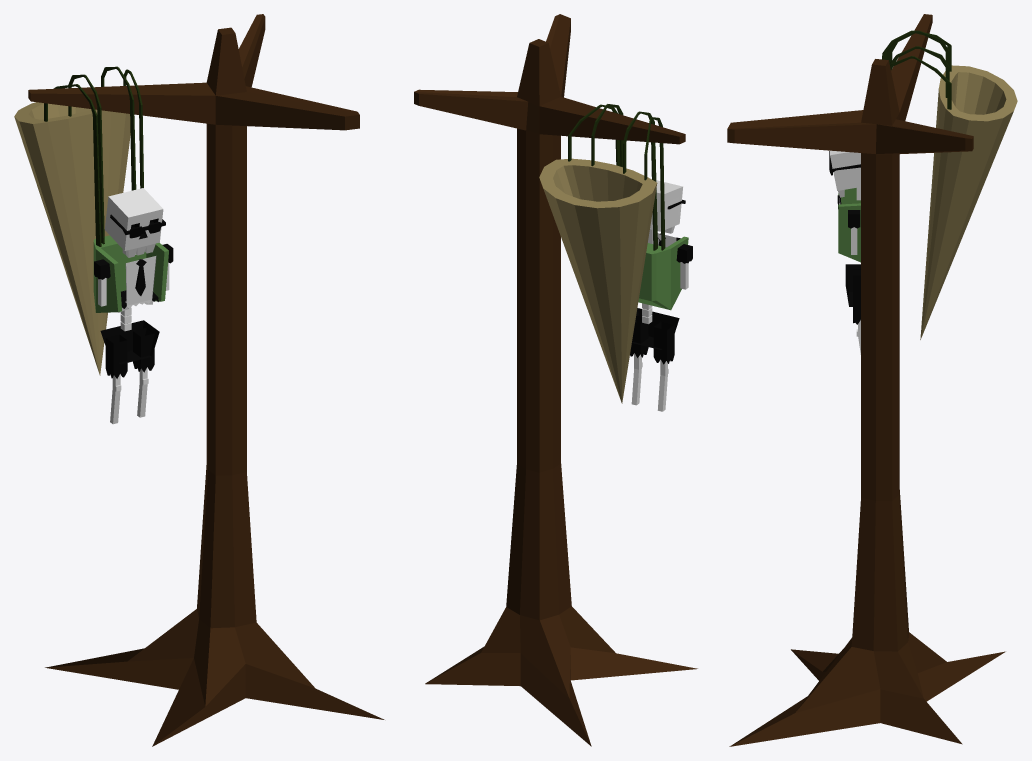
The model's file is DB_Tree.fbx.
3 renders of one model, left to right at view 1: azimuth 30°, elevation 25°; view 2: azimuth 150°, elevation 25°; view 3: azimuth 270°, elevation 25°, orthographic. The views are drawn at different scales.
Parts seen in each view (by area): view 1: DB_Tree, Chute, DB, ParaCord, Parachute; view 2: DB_Tree, Chute, DB, Parachute, ParaCord; view 3: DB_Tree, Chute, DB, ParaCord, Parachute.
Boxes of the visible parts, bbox=[...] form: DB_Tree: bbox=[28, 14, 384, 746]; Chute: bbox=[14, 102, 130, 375]; DB: bbox=[94, 188, 173, 424]; ParaCord: bbox=[44, 66, 143, 246]; Parachute: bbox=[93, 235, 168, 312]; DB_Tree: bbox=[414, 14, 697, 746]; Chute: bbox=[539, 158, 657, 403]; DB: bbox=[630, 179, 692, 411]; Parachute: bbox=[638, 236, 688, 310]; ParaCord: bbox=[568, 104, 665, 250]; DB_Tree: bbox=[727, 14, 1005, 746]; Chute: bbox=[920, 65, 1017, 339]; DB: bbox=[829, 150, 860, 354]; ParaCord: bbox=[882, 30, 951, 109]; Parachute: bbox=[838, 188, 860, 262].
Size of the model in its own units: 673 by 1637 by 667.
